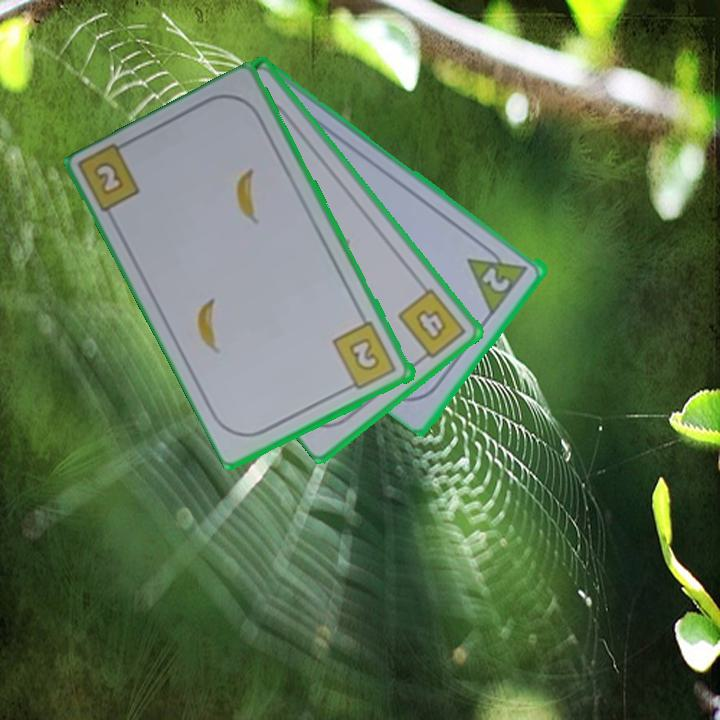2b: (329, 318, 400, 394), (93, 161, 124, 195)
2p: (464, 238, 532, 316)
4b: (394, 284, 469, 366)
